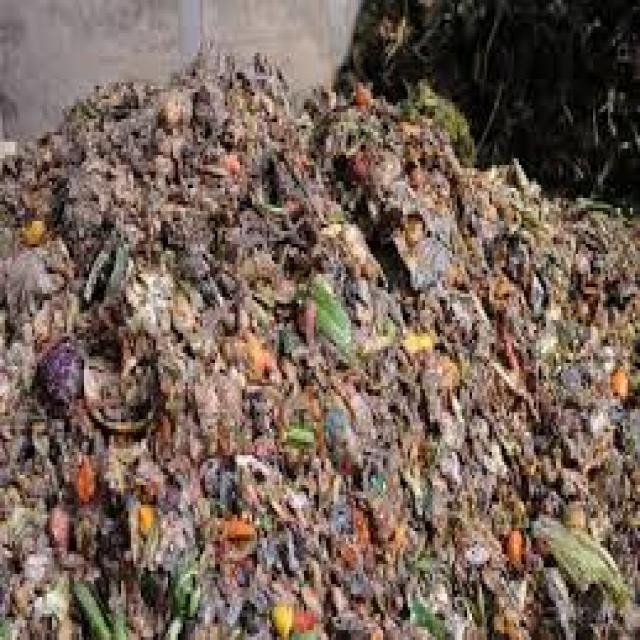food_waste: (36, 140, 616, 588)
